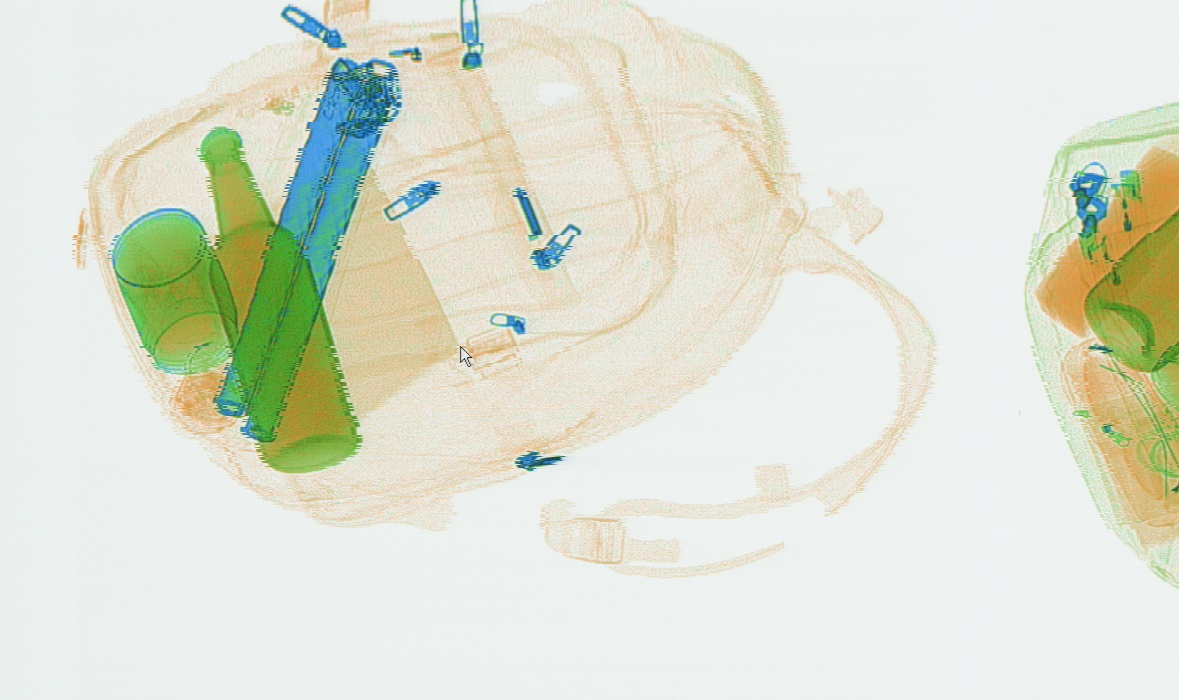lighter: (1076, 223, 1134, 328), (1101, 167, 1151, 274)
